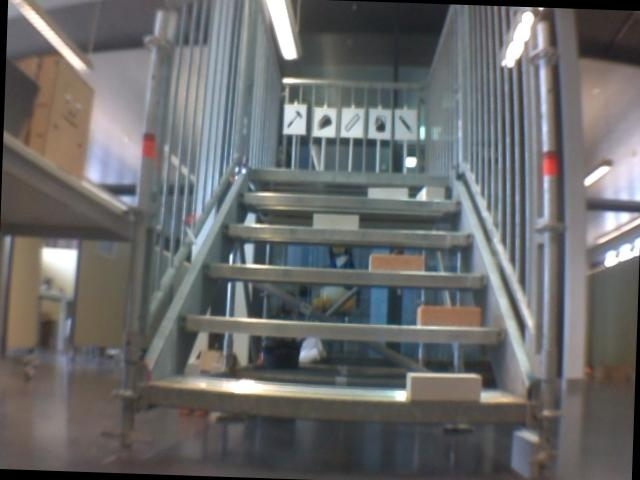brick: (405, 372, 481, 402), (418, 305, 478, 328), (368, 254, 423, 272), (313, 214, 357, 230), (369, 187, 406, 199), (417, 186, 443, 200)
bucket: (372, 112, 390, 135)
edge: (149, 384, 529, 424), (179, 315, 508, 344), (203, 262, 486, 287), (219, 222, 473, 245), (239, 192, 461, 211), (250, 167, 451, 185)
hammer: (281, 107, 304, 133)
pencil: (394, 112, 414, 134)
ruler: (341, 110, 361, 135)
steps: (143, 160, 546, 428)
taco: (315, 111, 334, 133)
